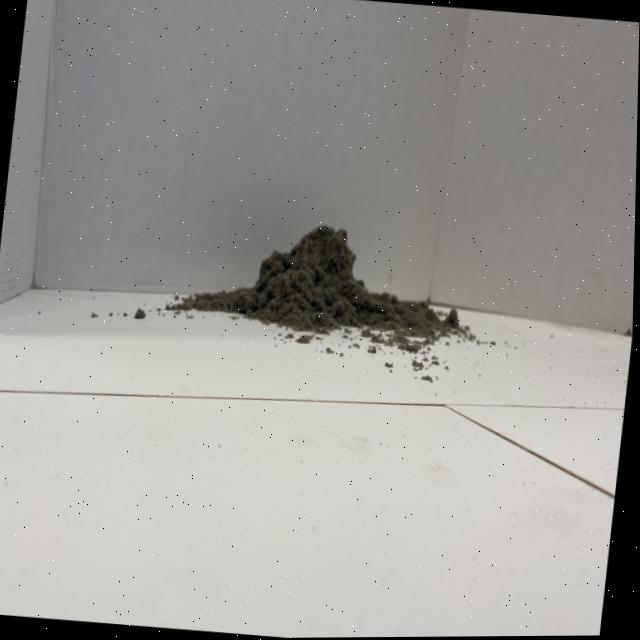sand: (189, 203, 451, 372)
